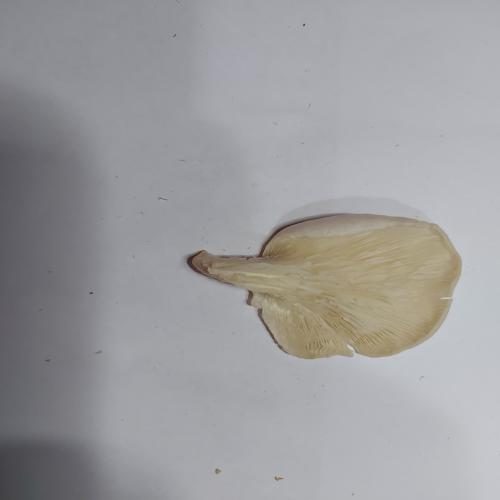Oyster Mushroom: (190, 211, 463, 360)
